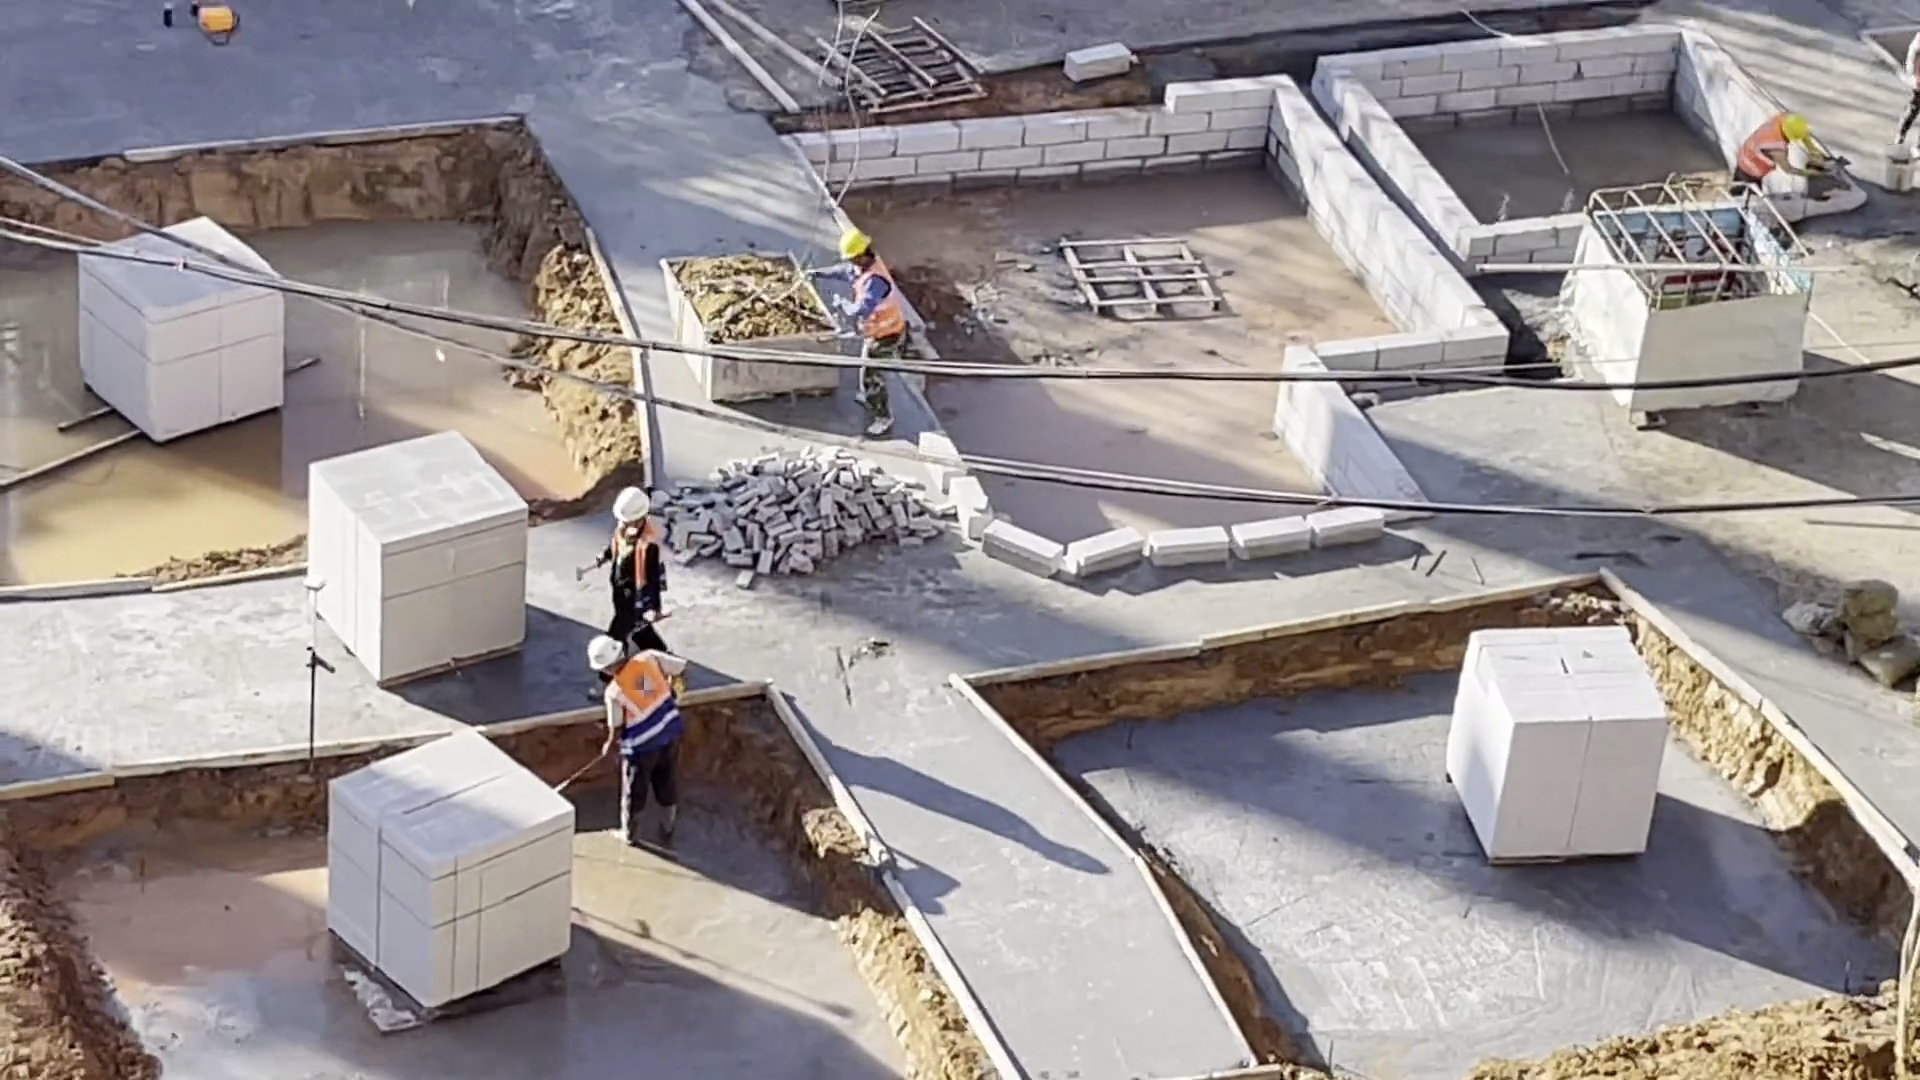brick: (323, 724, 569, 1009), (297, 427, 519, 693), (1438, 612, 1667, 861), (68, 286, 289, 442)
helmet: (587, 632, 624, 673), (610, 485, 651, 522), (834, 226, 875, 261), (1785, 115, 1814, 146)
hopper: (652, 243, 844, 358)
person: (799, 225, 899, 443), (587, 632, 687, 848), (575, 485, 672, 652), (1734, 109, 1837, 204), (1897, 26, 1919, 147)
vest: (614, 651, 681, 758), (853, 264, 900, 338), (1736, 113, 1785, 180)
